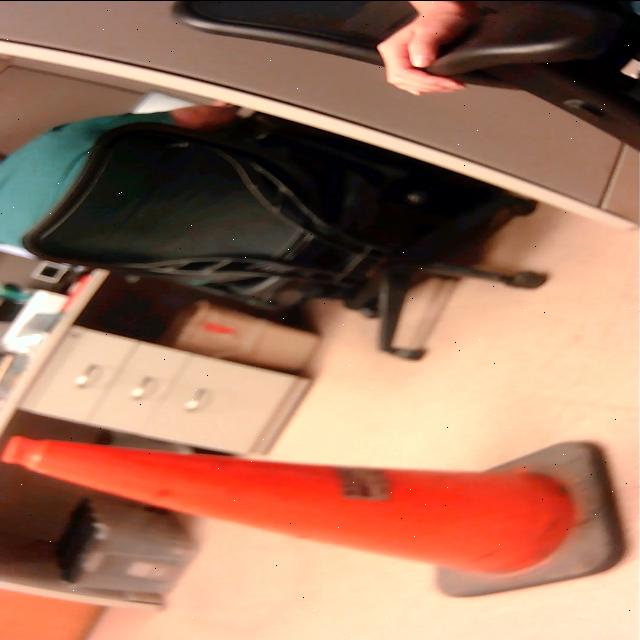traffic cone: (1, 427, 640, 604)
